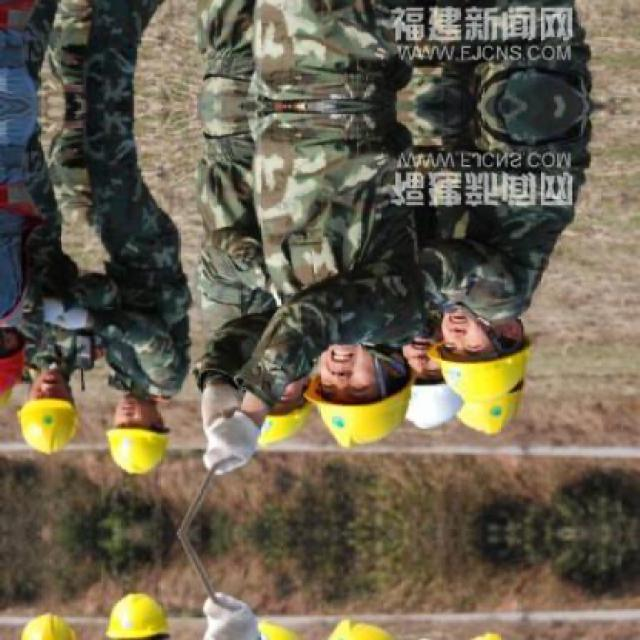con casco: (235, 331, 385, 462), (193, 344, 339, 462), (3, 339, 140, 456), (362, 321, 488, 437), (410, 309, 554, 408), (101, 388, 194, 473)
